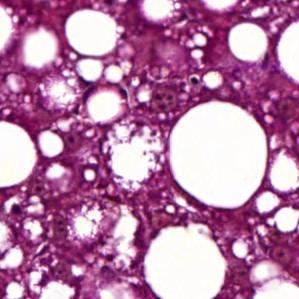steatosis: (168, 102, 268, 215), (64, 10, 121, 54)
